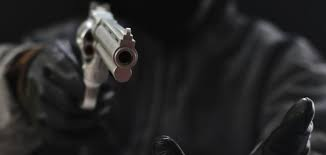gun: (79, 3, 139, 111)
